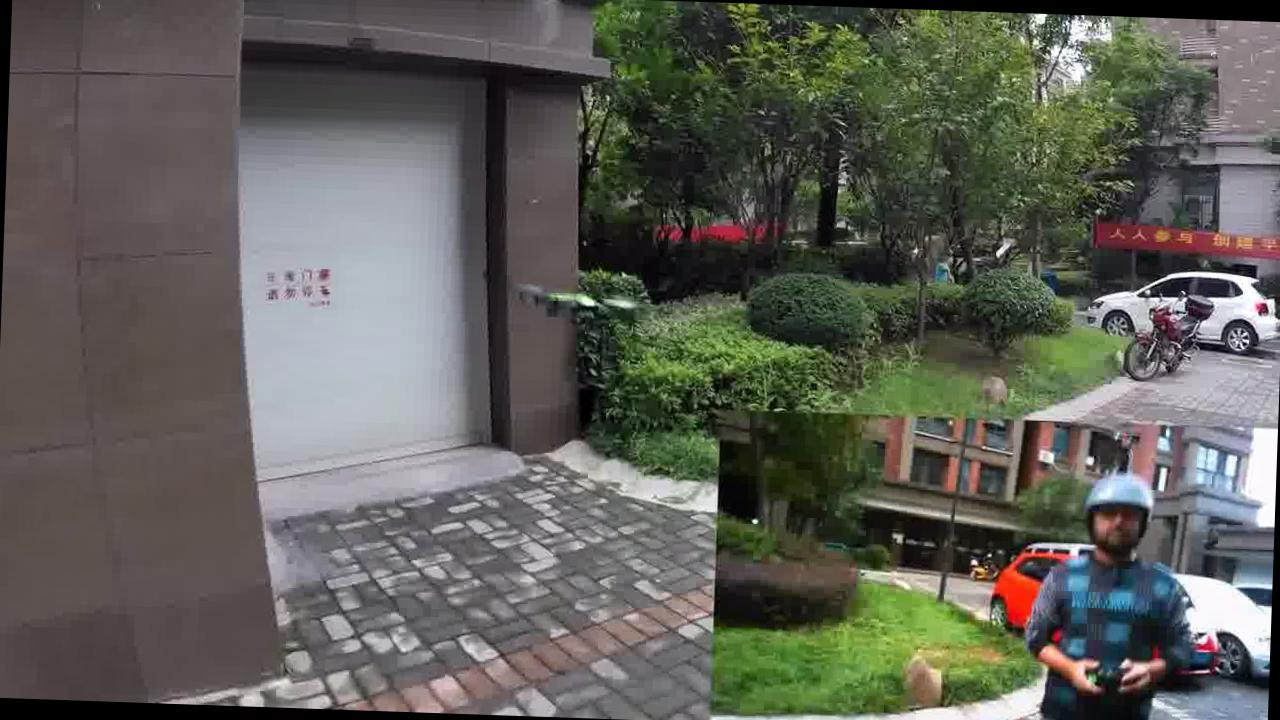drone: (500, 276, 662, 348)
